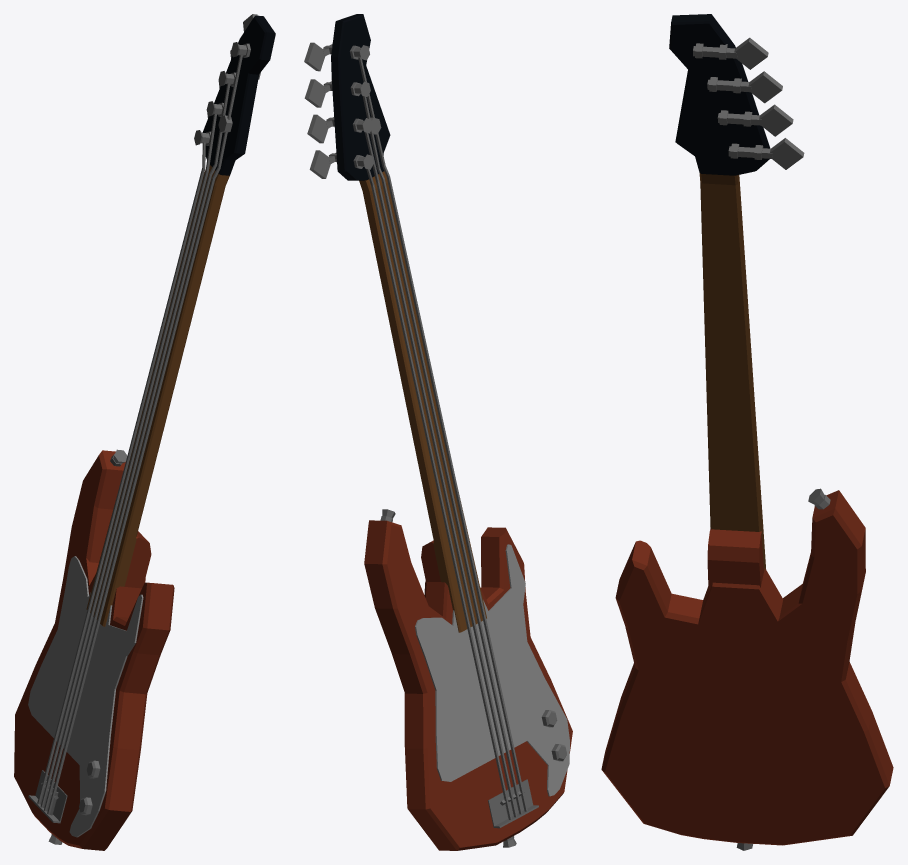
Rendered from Bass.glb.
3 renders of one model, left to right at view 1: azimuth 30°, elevation 25°; view 2: azimuth 150°, elevation 25°; view 3: azimuth 270°, elevation 25°, orthographic. The views are drawn at different scales.
Visible parts, largest first — view 1: Bass; view 2: Bass; view 3: Bass.
Part boxes in pixels (left/top/right/bottom): Bass: left=14, top=14, right=275, bottom=850; Bass: left=304, top=14, right=572, bottom=850; Bass: left=601, top=14, right=893, bottom=850.
Bounding box in the file's own units: 0.4364 × 1.5 × 0.4233.
